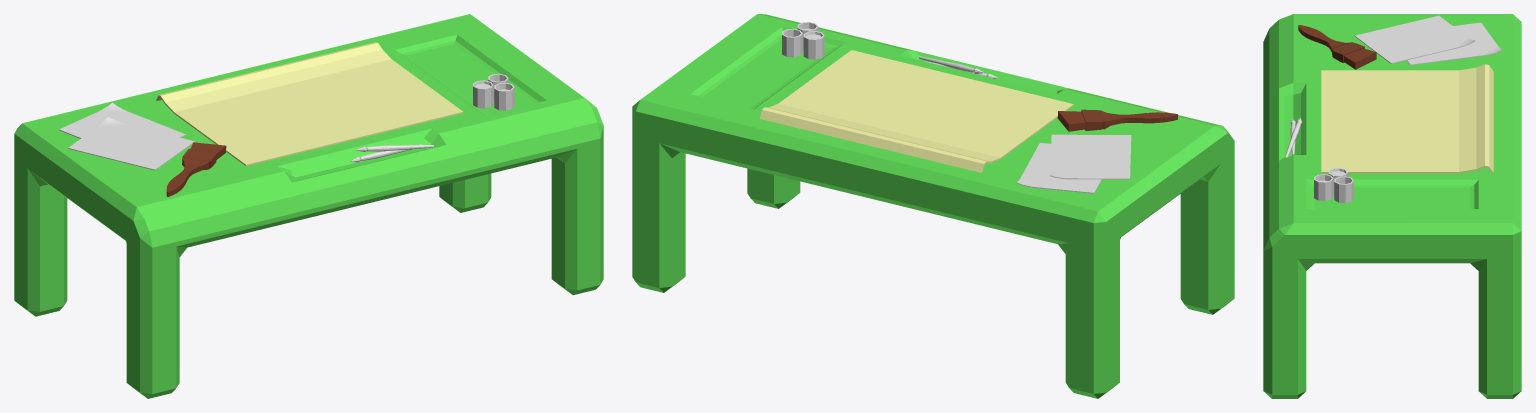
File: ArtStation_new.fbx
The picture shows the model from 3 angles, left to right: view 1: azimuth 30°, elevation 25°; view 2: azimuth 150°, elevation 25°; view 3: azimuth 270°, elevation 25°; orthographic projection. The views are drawn at different scales.
Parts seen in each view (by area): view 1: ArtDesk, ArtTablet, Paper2, Paper, BristleBrush, FullPaint, HalfPaint; view 2: ArtDesk, ArtTablet, Paper2, Paper, BristleBrush, FullPaint, LowPaint; view 3: ArtDesk, ArtTablet, Paper2, Paper, BristleBrush, LowPaint, HalfPaint.
Part boxes in pixels (x1,y1,x2,y2): ArtDesk: (14,14,603,398); ArtTablet: (156,42,463,166); Paper2: (68,117,194,170); Paper: (59,102,186,138); BristleBrush: (166,142,226,196); FullPaint: (473,80,493,108); HalfPaint: (494,82,514,110); ArtDesk: (632,14,1234,398); ArtTablet: (759,50,1073,172); Paper2: (1050,134,1131,179); Paper: (1016,142,1101,193); BristleBrush: (1057,109,1177,131); FullPaint: (803,31,824,59); LowPaint: (782,28,802,57); ArtDesk: (1263,14,1521,398); ArtTablet: (1321,64,1493,173); Paper2: (1354,15,1475,63); Paper: (1407,22,1502,65); BristleBrush: (1298,25,1376,69); LowPaint: (1334,176,1353,203); HalfPaint: (1314,174,1333,200).
Size of the model in its own units: 596 by 244 by 300.
